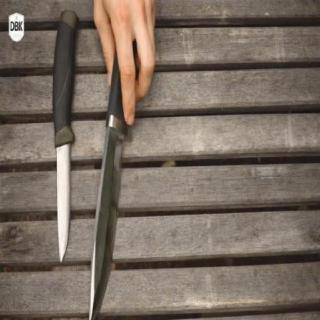knife: (88, 76, 156, 320), (46, 116, 78, 278)
